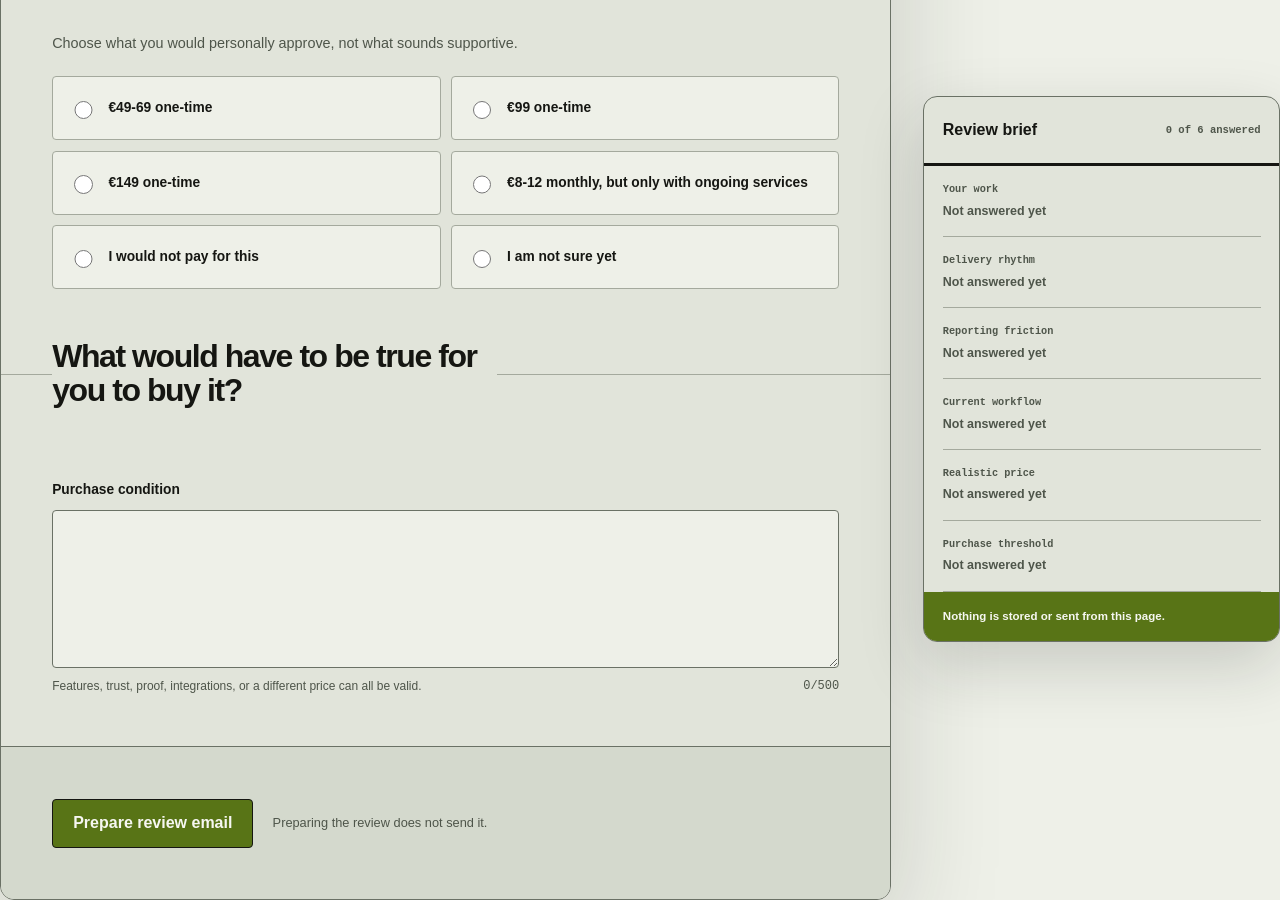
Test: SpecialistReviewForm › shows an actionable error summary when required answers are missing
(page scrolled)
Click the button "Prepare review email" at (153, 823), box left=52, top=798, right=253, bottom=848
(page scrolled)
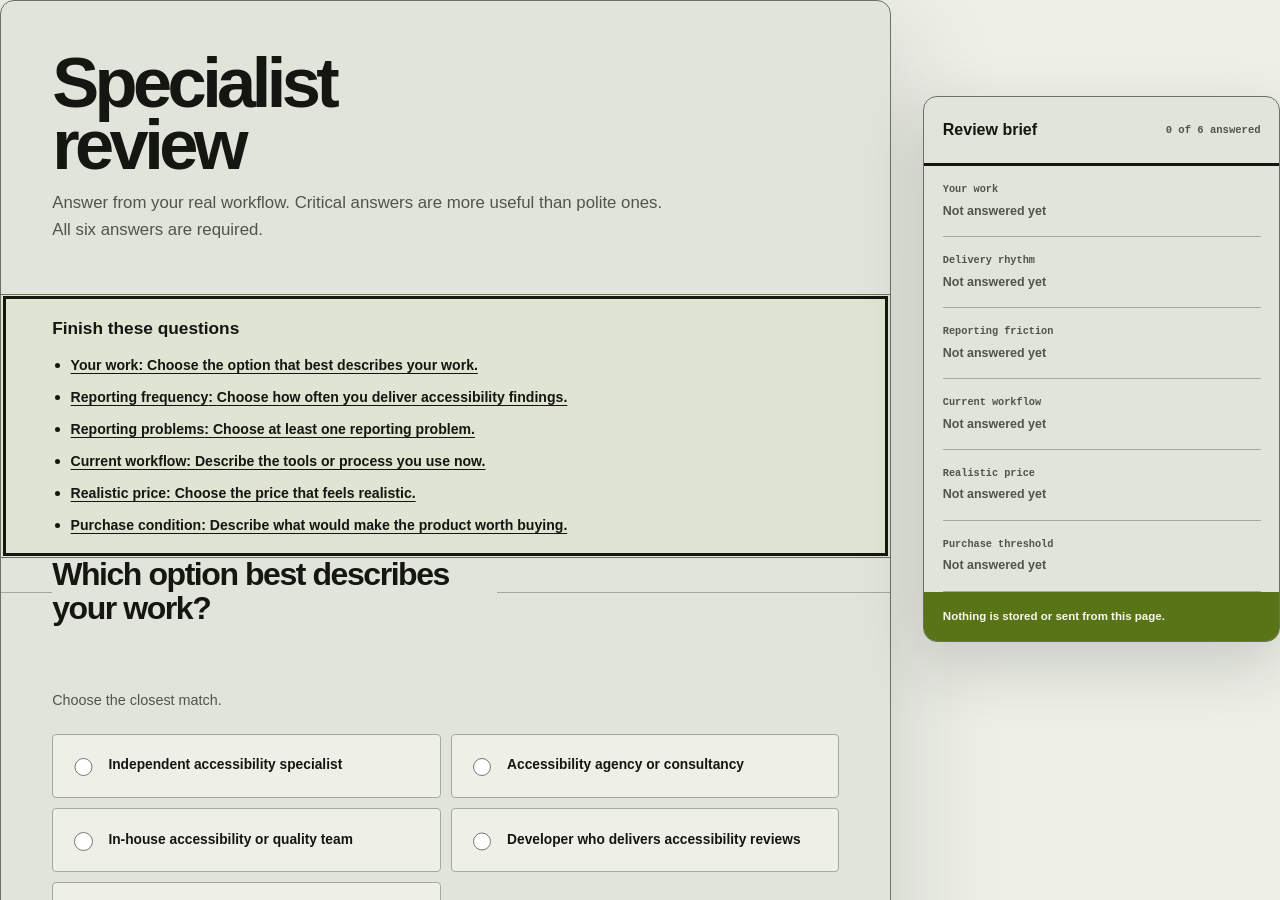
Result: the message shows "Finish these questions" at left=52, top=318, right=239, bottom=338
Result: the message shows "Choose the price that feels realistic" at left=71, top=485, right=416, bottom=501
